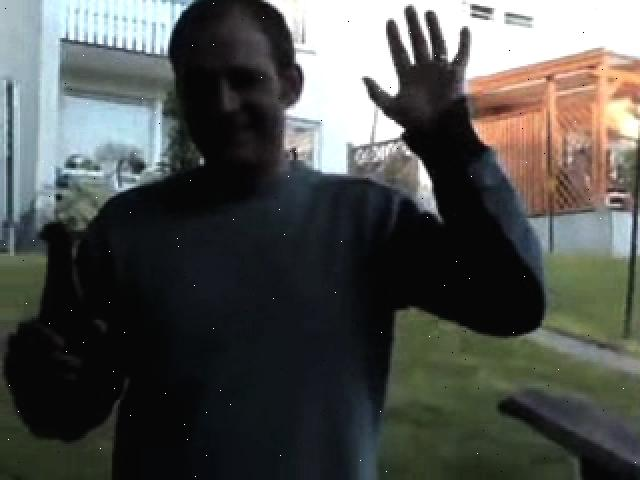L: (7, 0, 564, 480)
